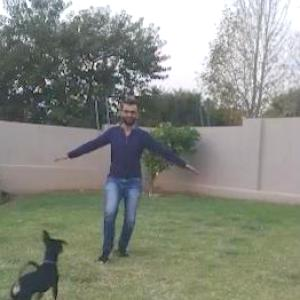land: (51, 65, 218, 289)
